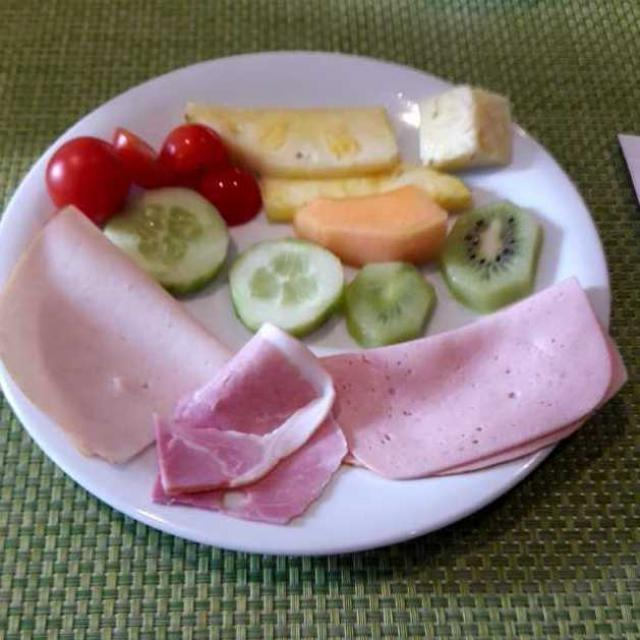cucumber: (114, 190, 358, 338)
ham: (150, 336, 363, 562)
kiwi: (354, 189, 558, 342)
meat: (0, 202, 639, 538)
melon: (288, 184, 459, 250)
pineapple: (184, 88, 515, 206)
tomato: (32, 120, 277, 218)
